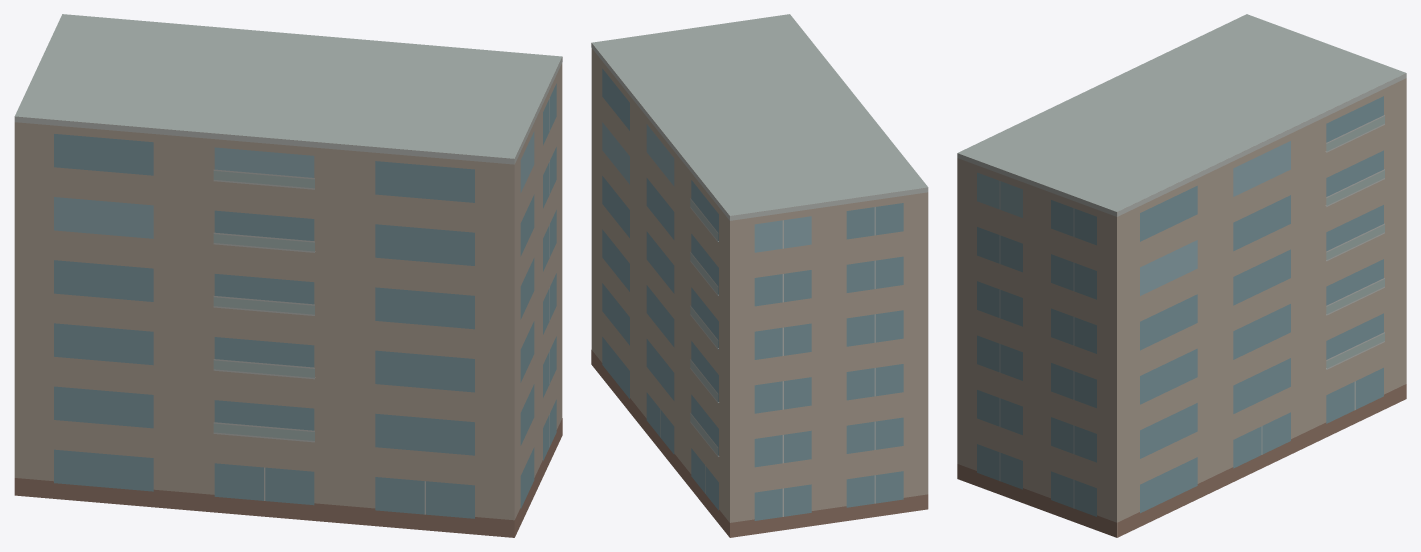
The model's file is survey-upis-32971386.glb.
3 views of the same model, side by side, from view 1: azimuth 30°, elevation 25°; view 2: azimuth 150°, elevation 25°; view 3: azimuth 270°, elevation 25° (orthographic). The views are drawn at different scales.
Parts seen in each view (by area): view 1: survey-upis-32971386.tmp; view 2: survey-upis-32971386.tmp; view 3: survey-upis-32971386.tmp.
Boxes of the visible parts, bbox=[...] form: survey-upis-32971386.tmp: bbox=[14, 14, 562, 537]; survey-upis-32971386.tmp: bbox=[591, 14, 928, 537]; survey-upis-32971386.tmp: bbox=[957, 14, 1406, 537].
Size of the model in its own units: 21.04 by 16.13 by 20.17.
